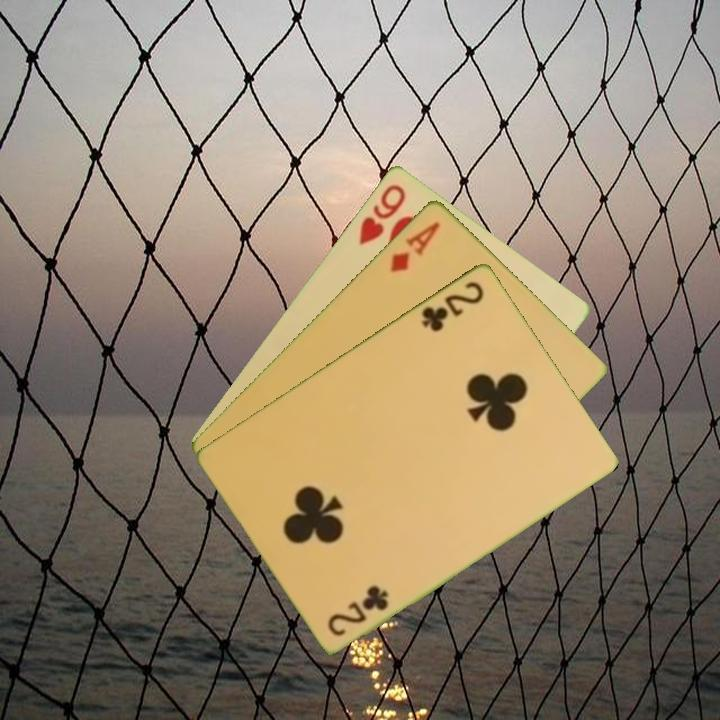2c: (418, 277, 487, 335), (324, 582, 392, 639)
9h: (355, 180, 409, 247)
Ad: (386, 217, 444, 275)
